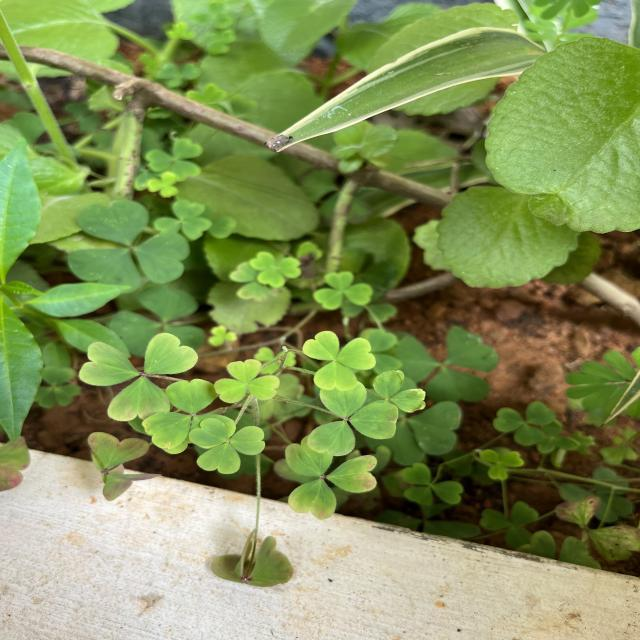Oxalis corniculata: (65, 198, 191, 288), (78, 332, 201, 422), (284, 436, 378, 520), (306, 380, 399, 457), (302, 329, 378, 392), (188, 417, 266, 475), (213, 358, 280, 404), (493, 401, 556, 446), (400, 462, 464, 506), (312, 270, 376, 311), (250, 250, 304, 290), (480, 447, 526, 481)
